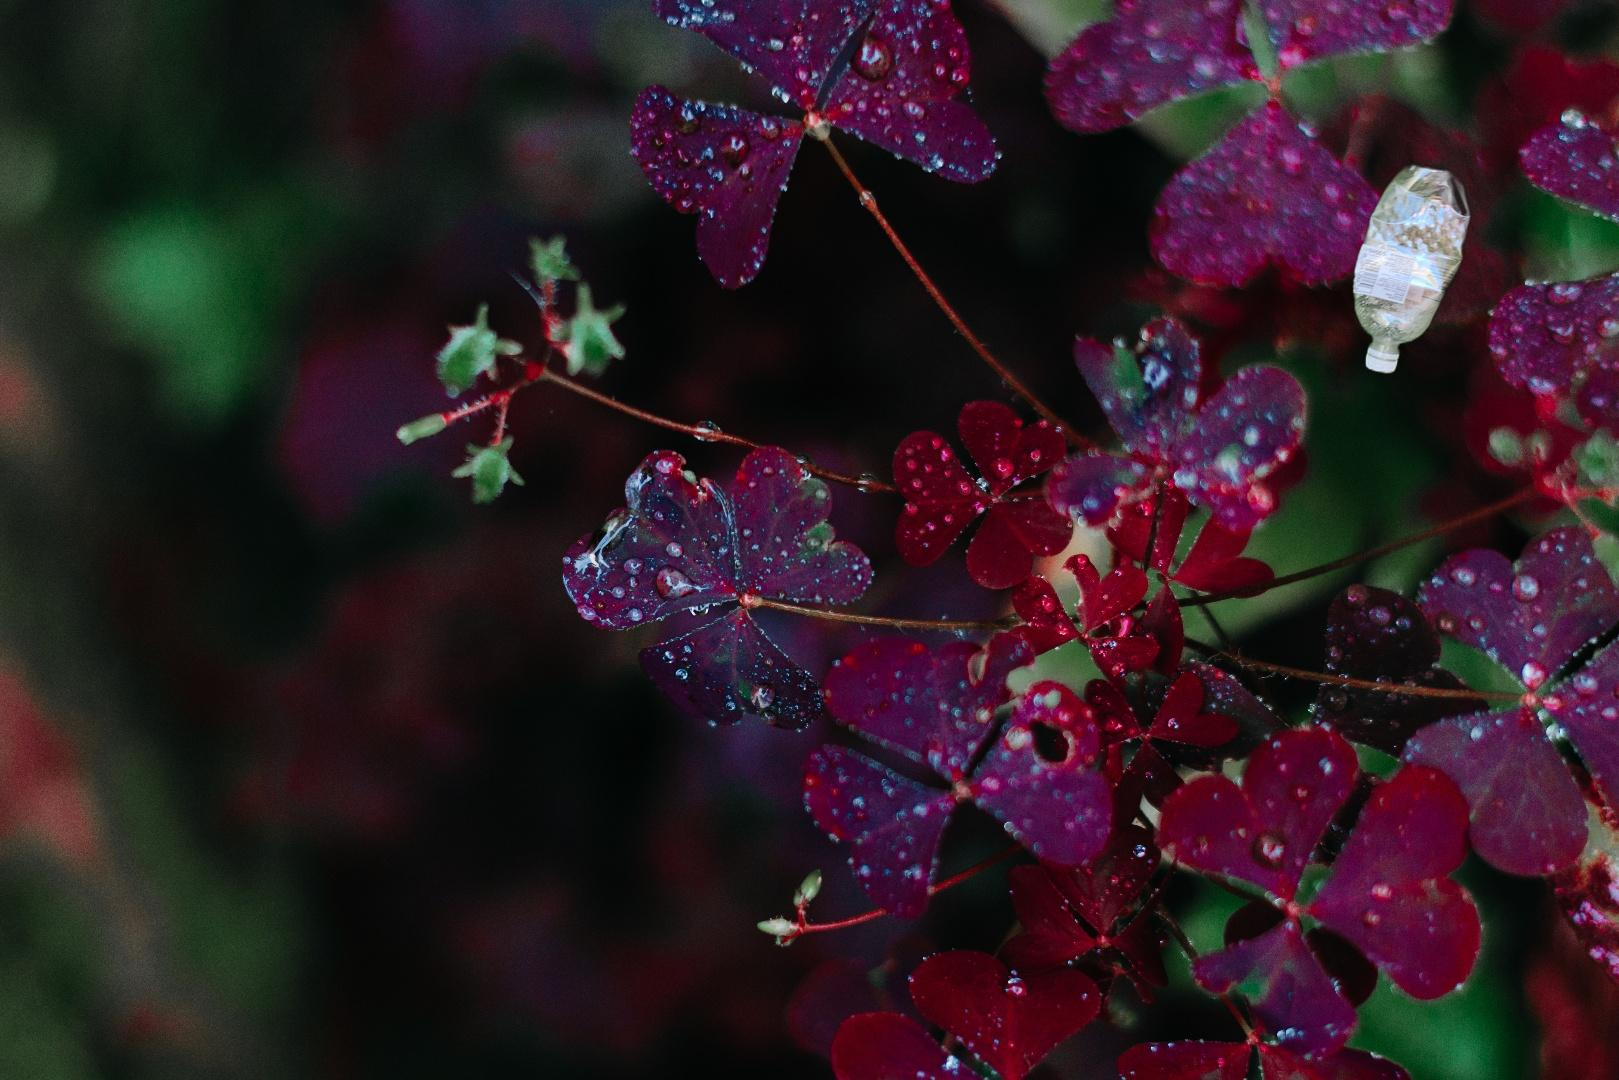plastic-bottles: (1348, 158, 1476, 378)
